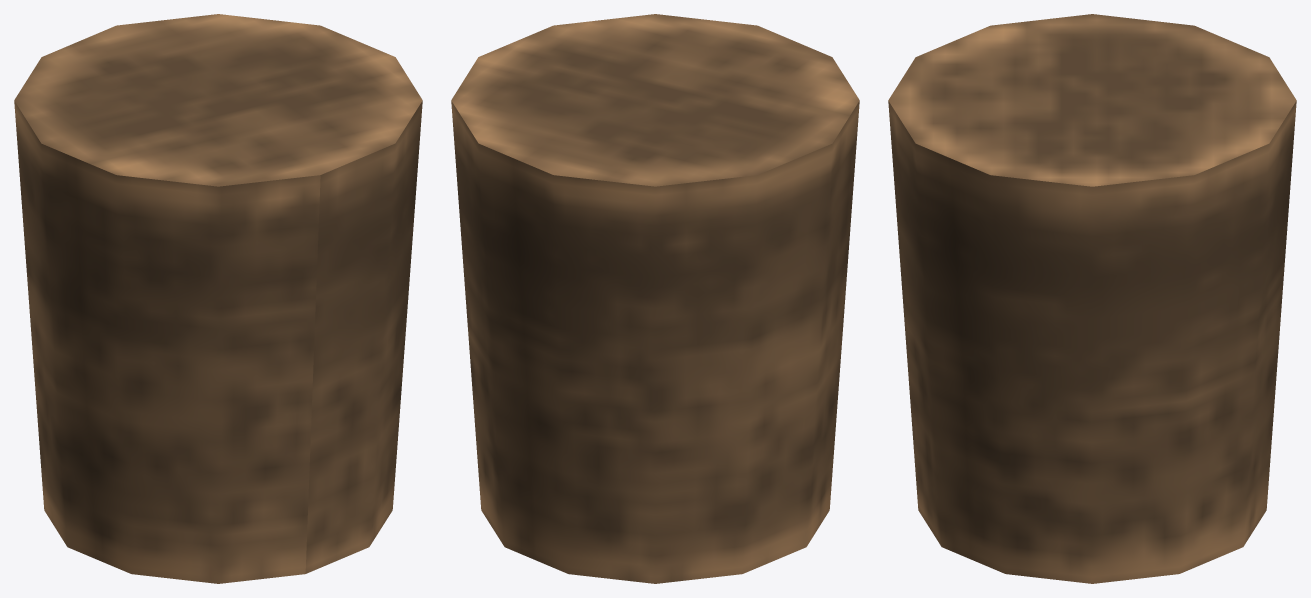
File: LOD0_bung.fbx
3 renders of one model, left to right at view 1: azimuth 30°, elevation 25°; view 2: azimuth 150°, elevation 25°; view 3: azimuth 270°, elevation 25°, orthographic.
Parts seen in each view (by area): view 1: LOD0_bung; view 2: LOD0_bung; view 3: LOD0_bung.
Part boxes in pixels (x1,y1,x2,y2): LOD0_bung: (14, 14, 422, 583); LOD0_bung: (451, 14, 859, 583); LOD0_bung: (888, 14, 1296, 583).
Size of the model in its own units: 0.0289 by 0.032 by 0.0289.
